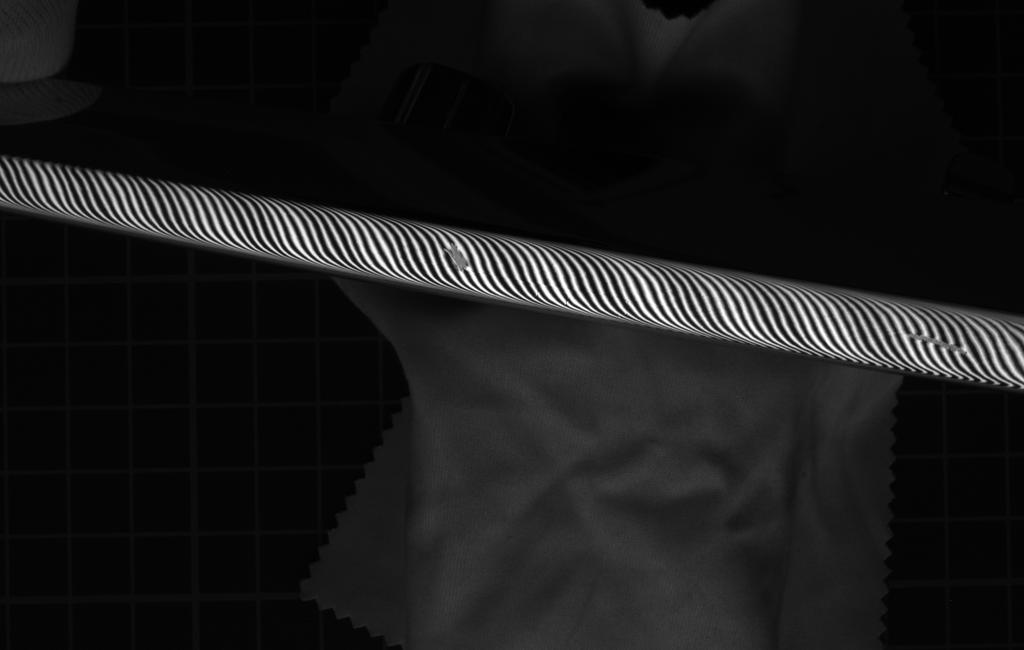Scratch: (897, 323, 983, 363), (435, 234, 477, 280)
